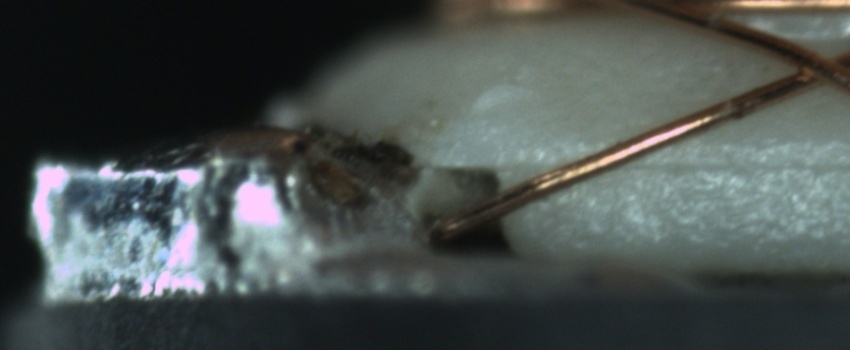CL: (775, 38, 848, 91)
DL: (543, 133, 850, 194)
